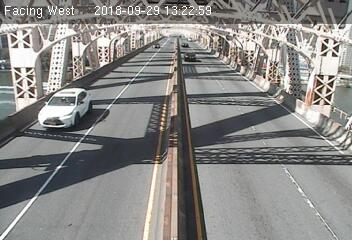car: (37, 85, 98, 138), (182, 51, 201, 64), (181, 39, 190, 49), (152, 41, 160, 47)
